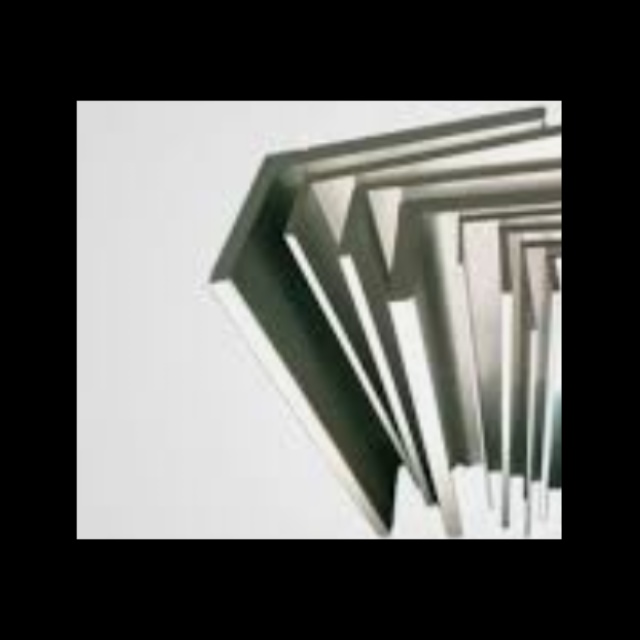Angle: (218, 111, 540, 277), (292, 125, 562, 230), (346, 164, 562, 252), (401, 193, 562, 297), (461, 205, 562, 262), (506, 224, 562, 286), (524, 239, 562, 322)
